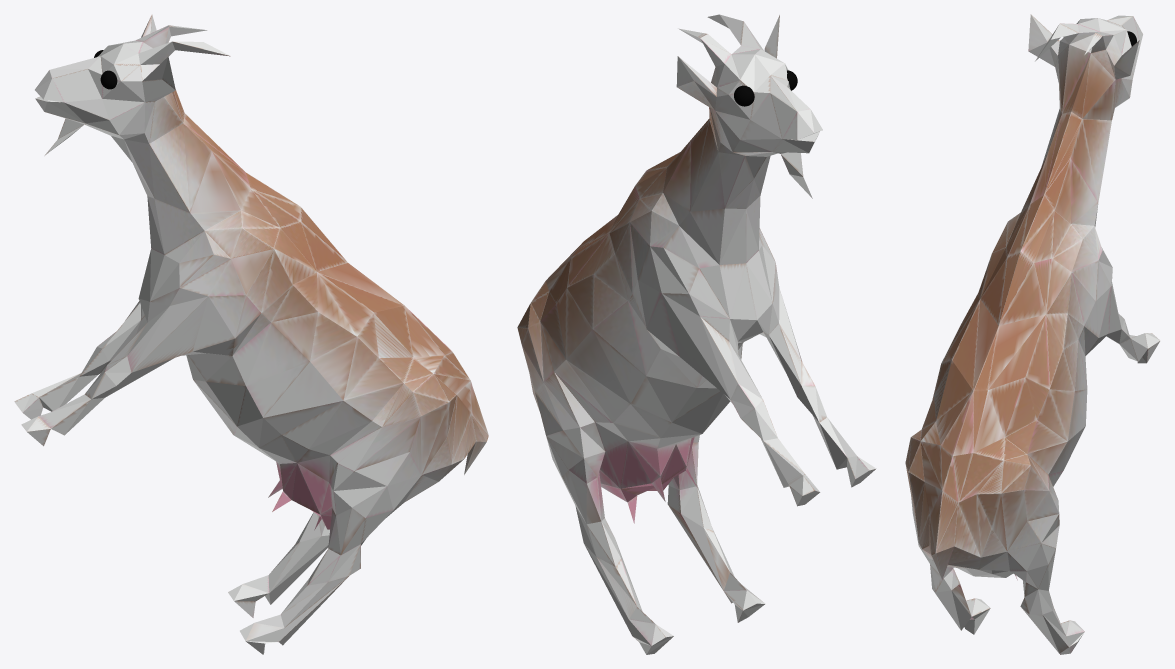
The model's file is Goat.fbx.
3 views of the same model, side by side, from view 1: azimuth 30°, elevation 25°; view 2: azimuth 150°, elevation 25°; view 3: azimuth 270°, elevation 25° (orthographic). The views are drawn at different scales.
Parts seen in each view (by area): view 1: node_id6; view 2: node_id6; view 3: node_id6.
Boxes of the visible parts, <box> form: node_id6: <box>14,14,488,654</box>; node_id6: <box>517,14,876,654</box>; node_id6: <box>905,14,1160,654</box>.
Size of the model in its own units: 0.1504 by 0.2215 by 0.0864.
Materials: 2 (2 with a texture image).
